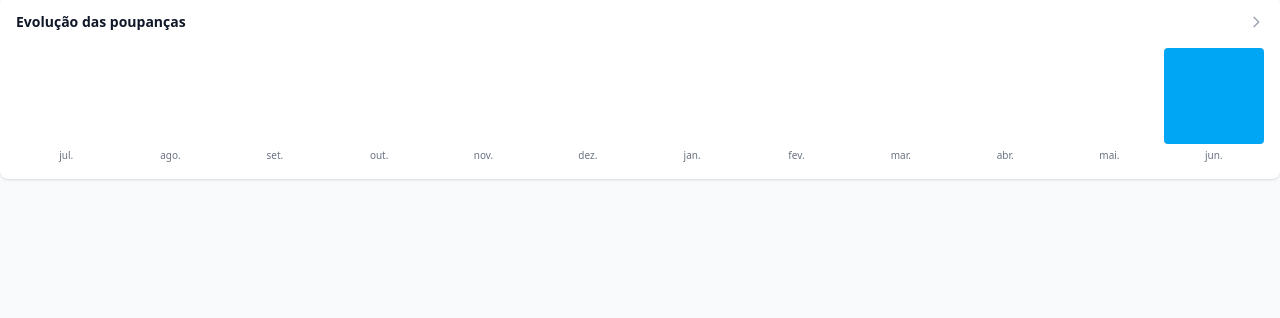
SavingsTrend — month readout › closes the readout when the same column is tapped again
Click the 12th button with test id "trend-column" at (1214, 96), box [1164,48,1264,144]
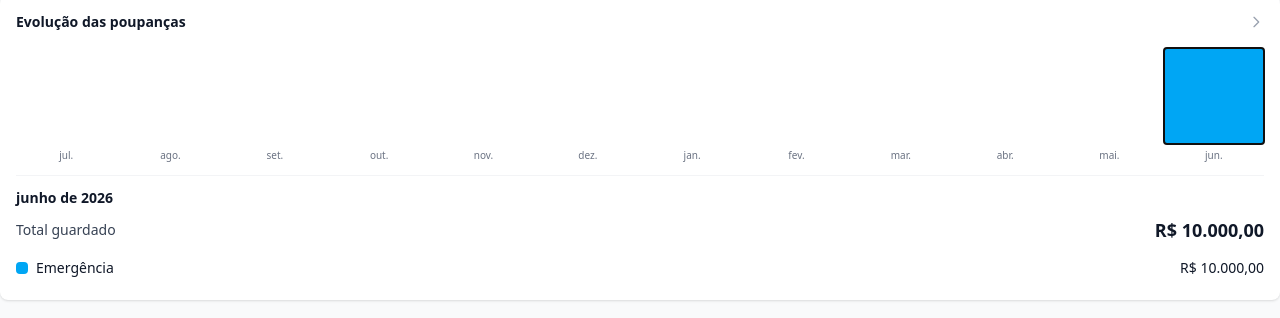
Result: the element with test id "readout" is shown at [16,175,1264,284]
When I tap June again
Click the 12th button with test id "trend-column" at (1214, 96), box [1164,48,1264,144]
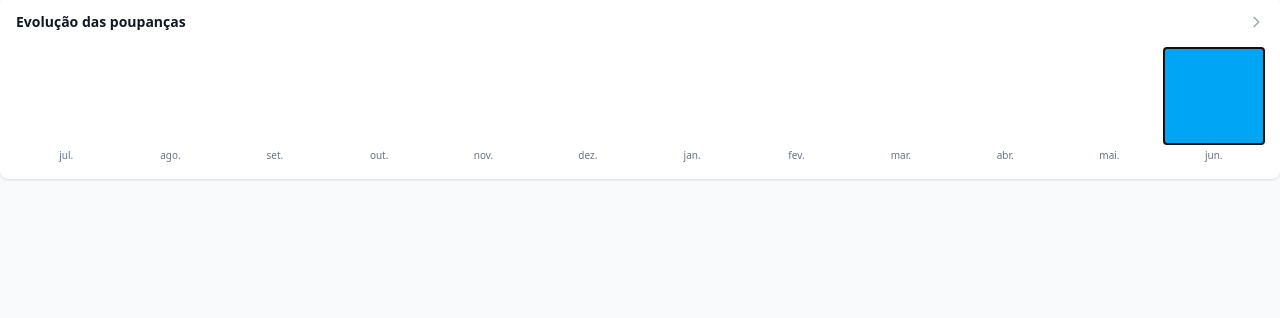
Result: the element with test id "readout" is gone
